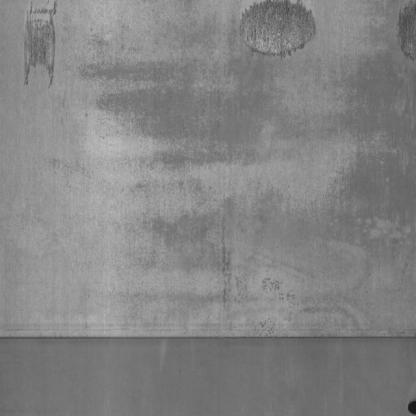rolled_pit: (223, 0, 329, 75), (15, 0, 75, 85), (390, 3, 416, 72)
